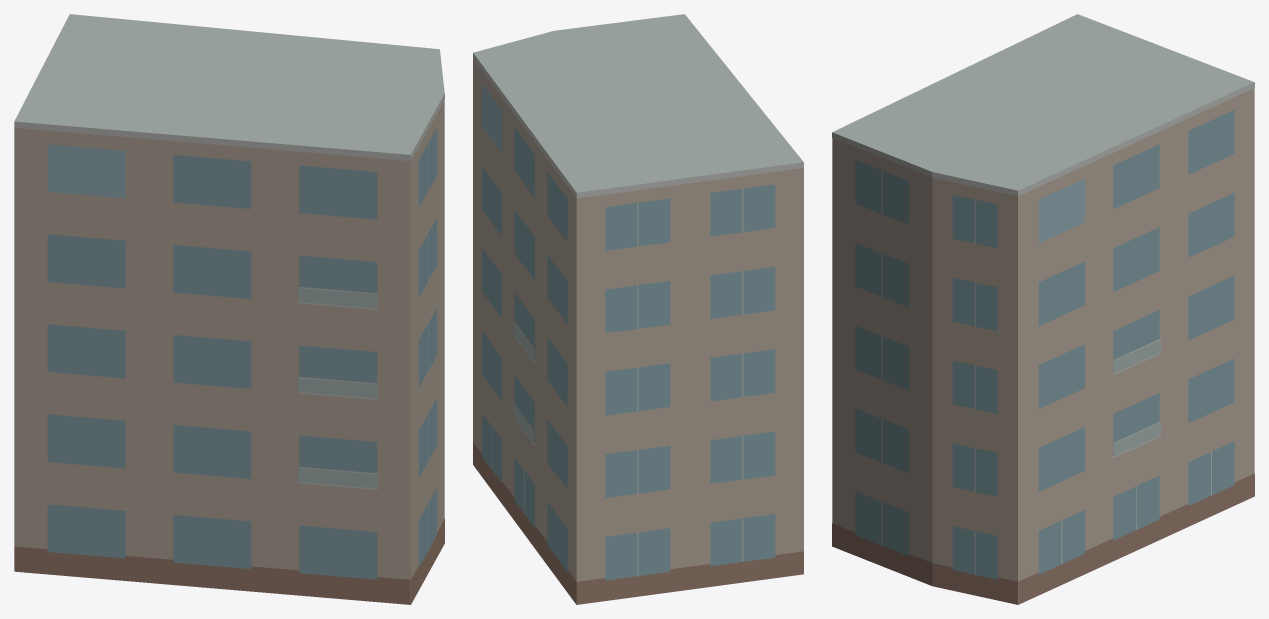
The model's file is survey-upis-32842142.glb.
3 views of the same model, side by side, from view 1: azimuth 30°, elevation 25°; view 2: azimuth 150°, elevation 25°; view 3: azimuth 270°, elevation 25° (orthographic). The views are drawn at different scales.
Visible parts, largest first — view 1: survey-upis-32842142.tmp; view 2: survey-upis-32842142.tmp; view 3: survey-upis-32842142.tmp.
Part boxes in pixels (x1,y1,x2,y2): survey-upis-32842142.tmp: [14, 14, 444, 604]; survey-upis-32842142.tmp: [473, 14, 803, 604]; survey-upis-32842142.tmp: [832, 14, 1254, 604].
Bounding box in the file's own units: 16.11 × 17.6 × 16.28.
